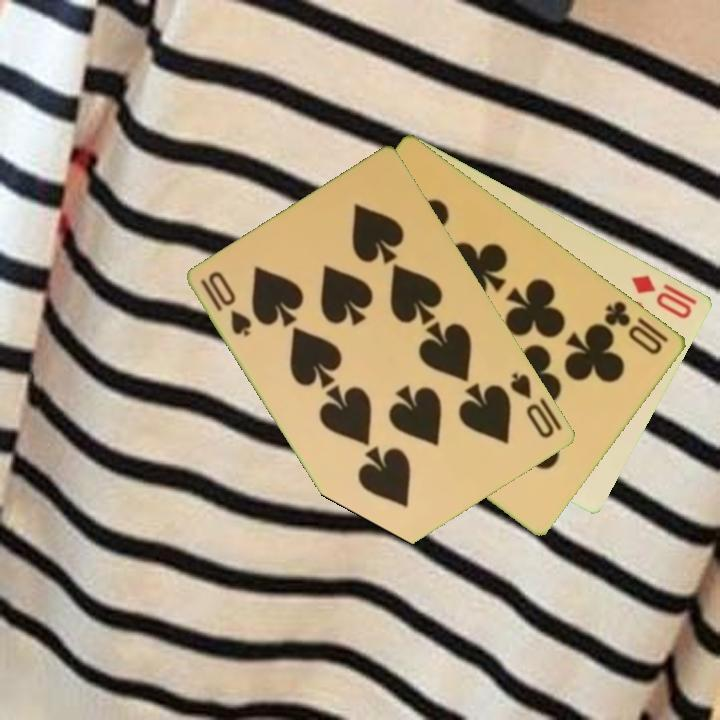10c: (601, 297, 666, 358)
10d: (628, 271, 696, 322)
10s: (197, 267, 256, 340), (507, 369, 558, 442)
